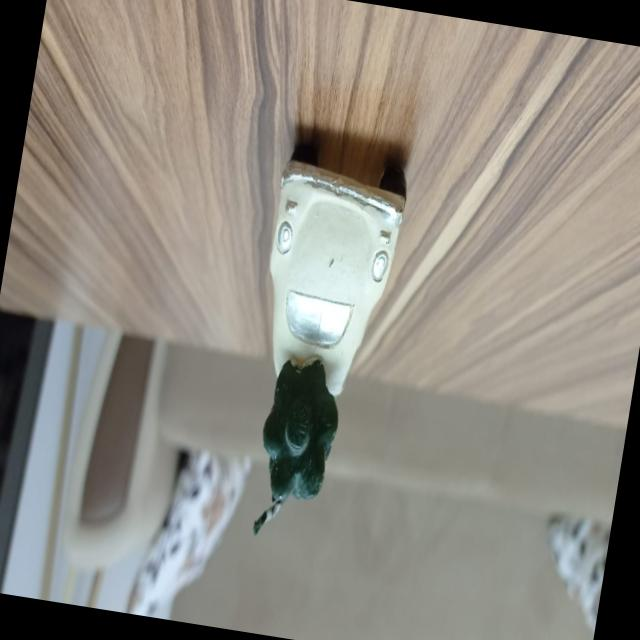car: (240, 152, 417, 398)
